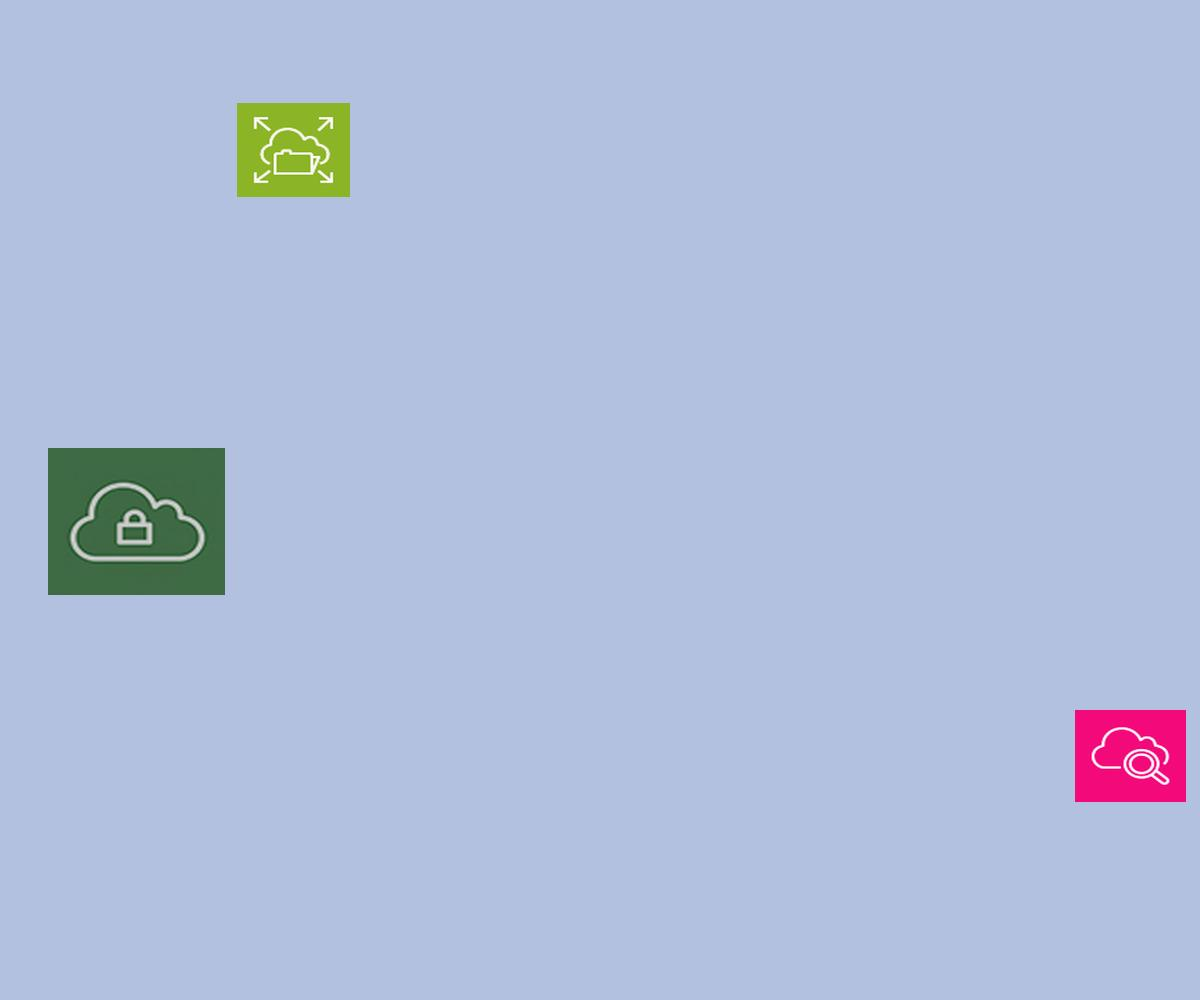AWS-CloudWatch: (1075, 710, 1186, 802)
AWS-EFS: (237, 103, 350, 197)
AWS-Private_vpc: (48, 448, 225, 595)
